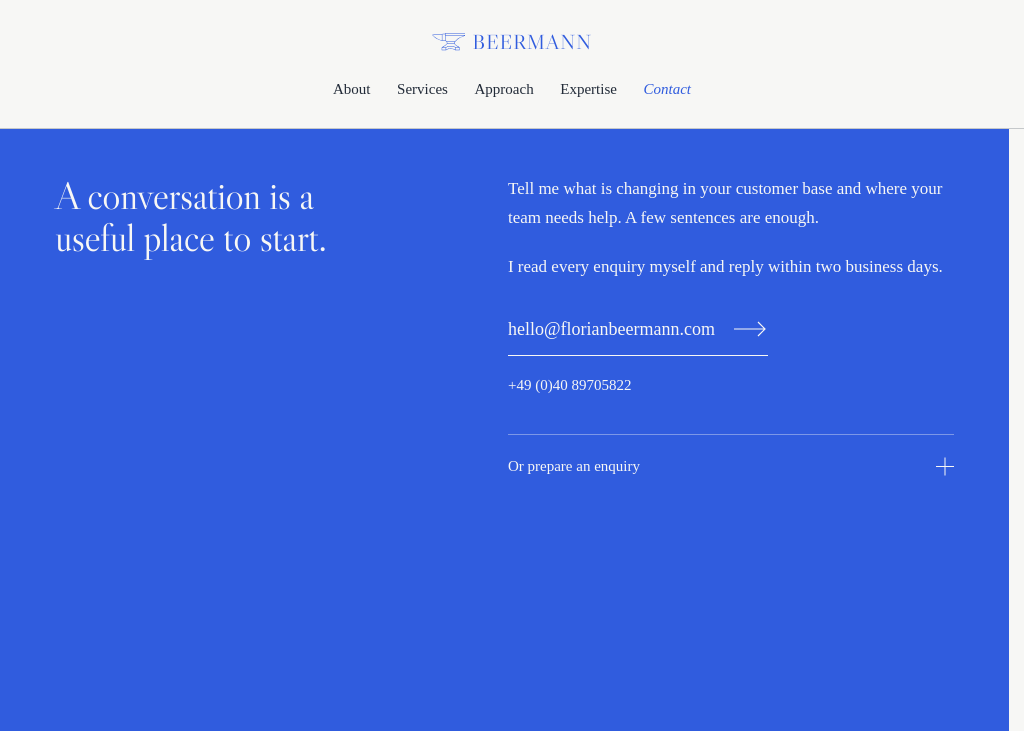
it: boutique homepage › prepares an explicitly unsent email draft when there is no form key
Click the heading "Or prepare an enquiry" at (574, 466), box [508,458,954,476]
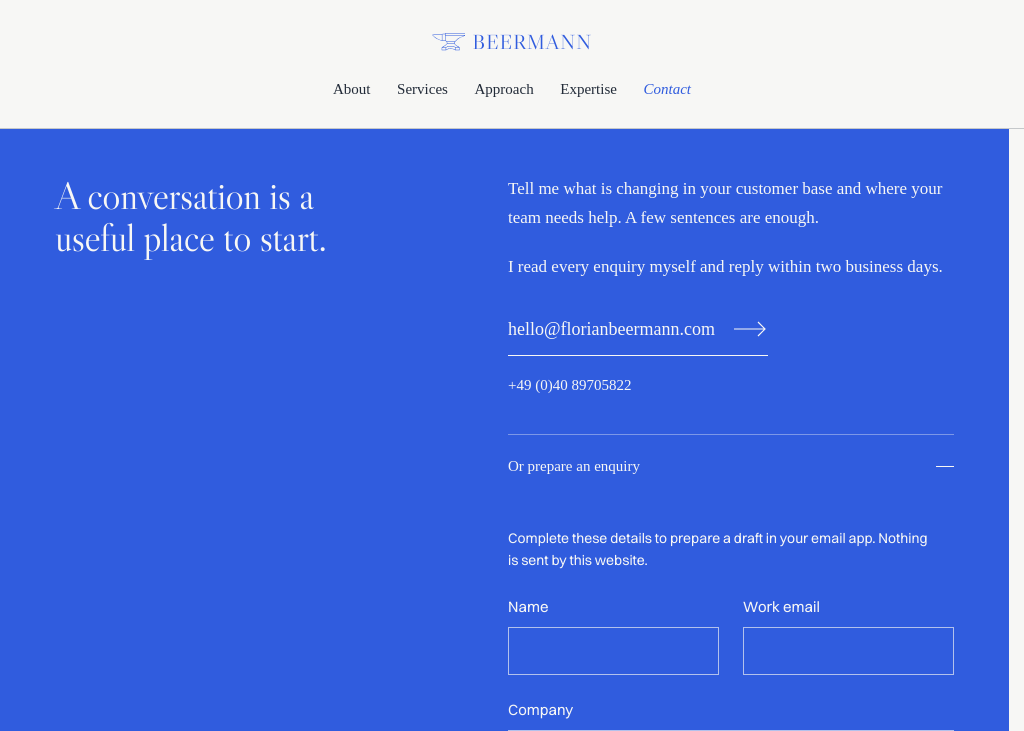
Expected: the text "Nothing is sent by this website" is shown, [508,529,928,569]
Type "Jane Doe" into the field labelled "Name" at (613, 651), box [508,627,719,675]
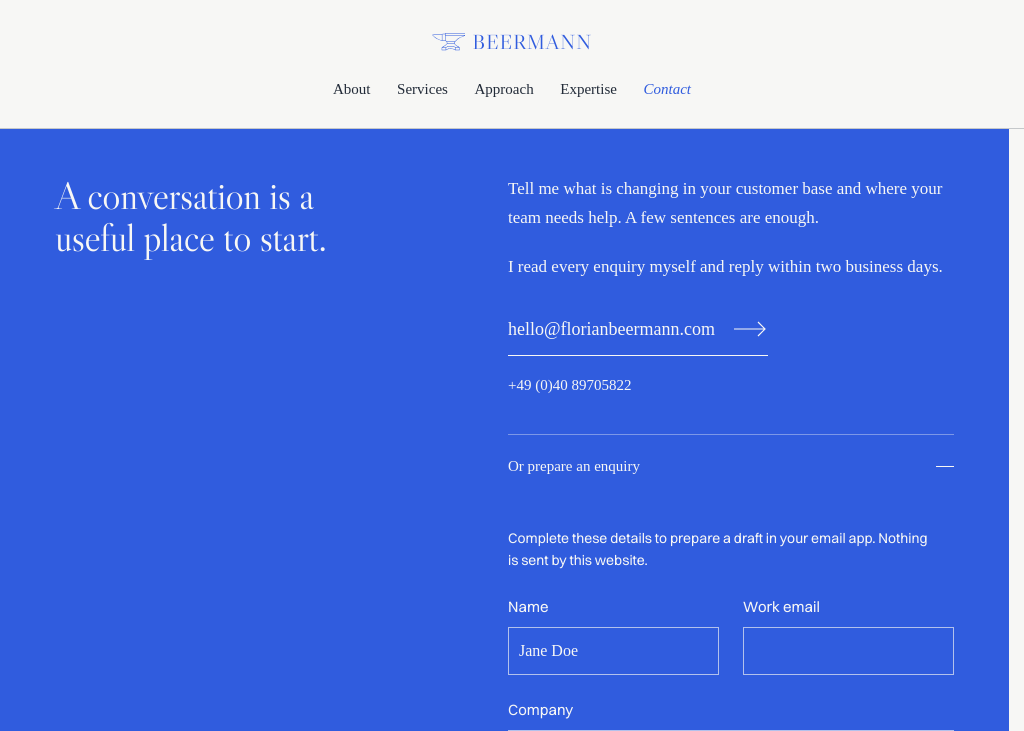
Type "jane@example.com" into the field labelled "Work email" at (848, 651), box [743,627,954,675]
(page scrolled)
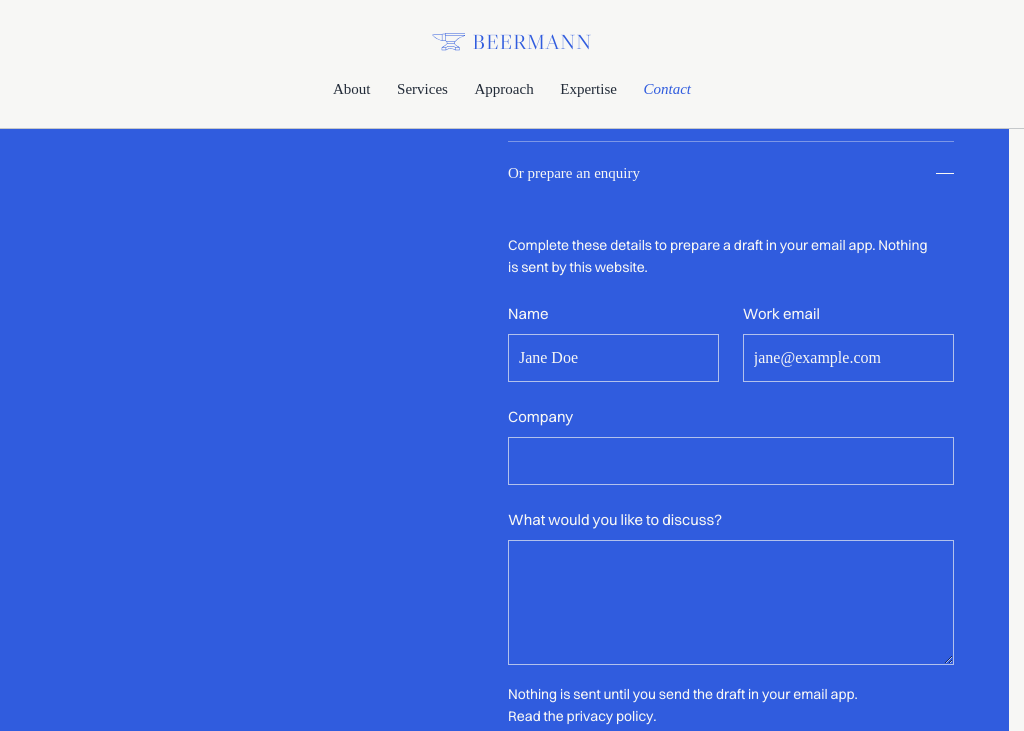
Type "Example company" into the field labelled "Company" at (731, 461), box [508,437,954,485]
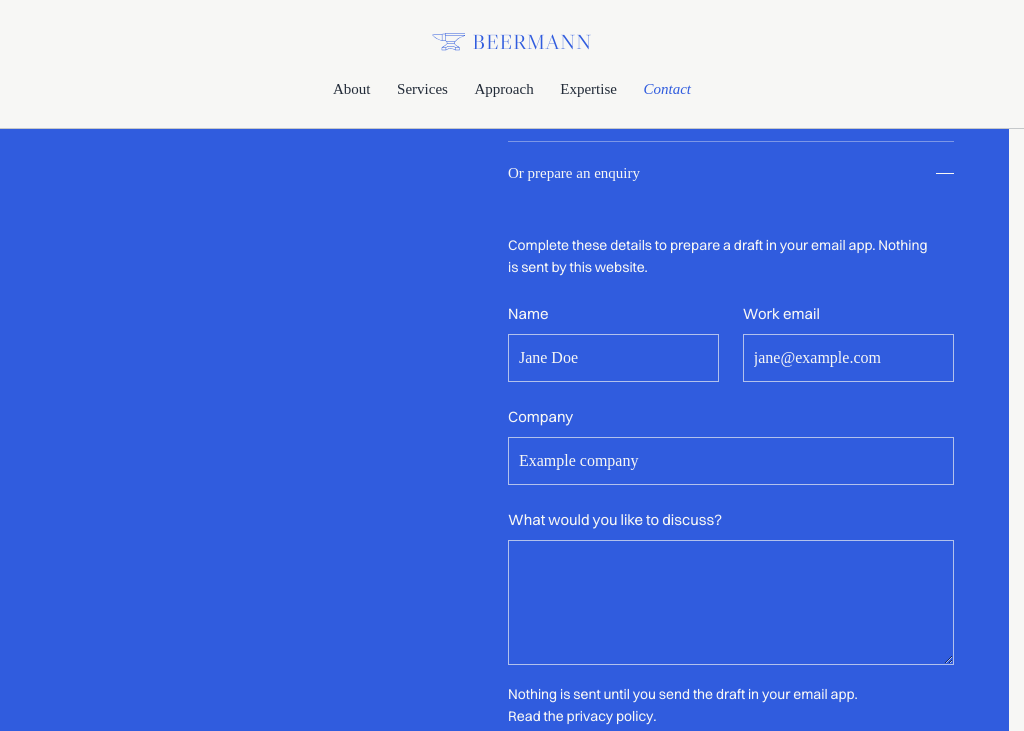
Type "Our customers have different onboarding needs." into the text box labelled "What would you like to discuss?" at (731, 602), box [508,540,954,665]
(page scrolled)
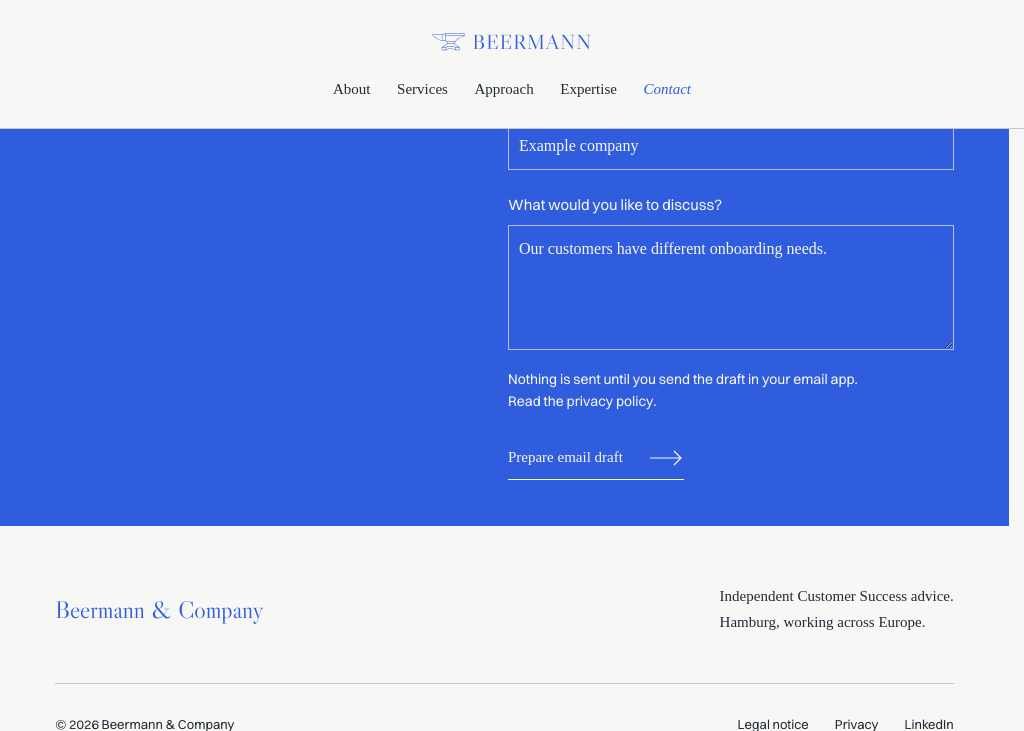
Click the button "Prepare email draft" at (596, 458), box [508,436,684,480]
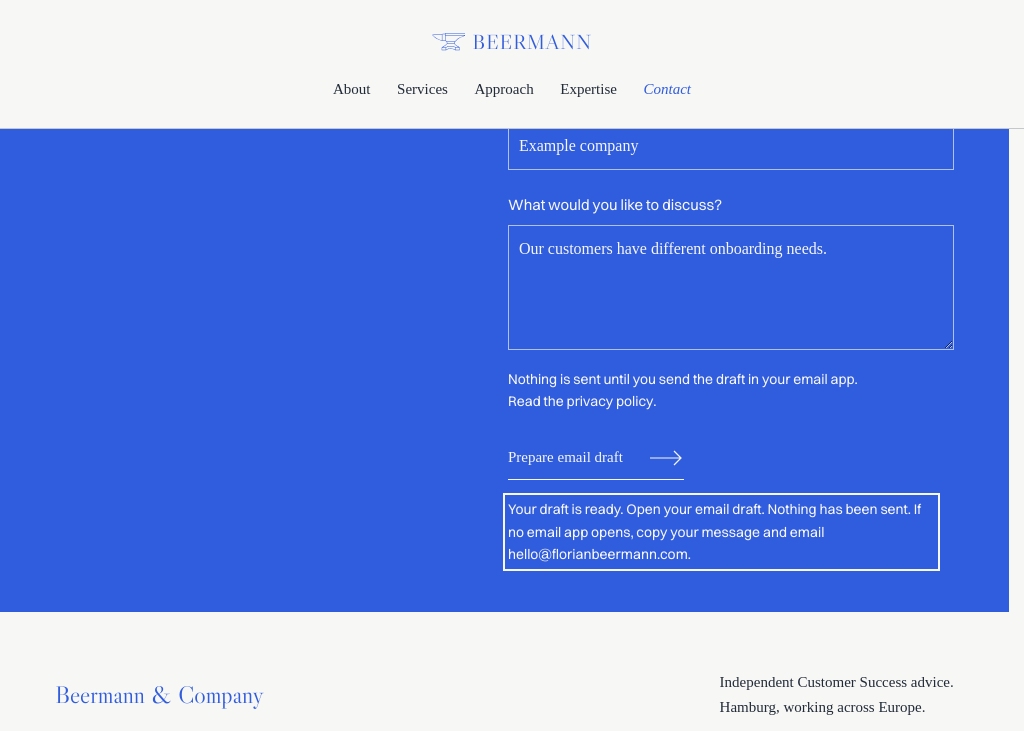
Expected: the message shows "Nothing has been sent.", [508,500,921,541]
